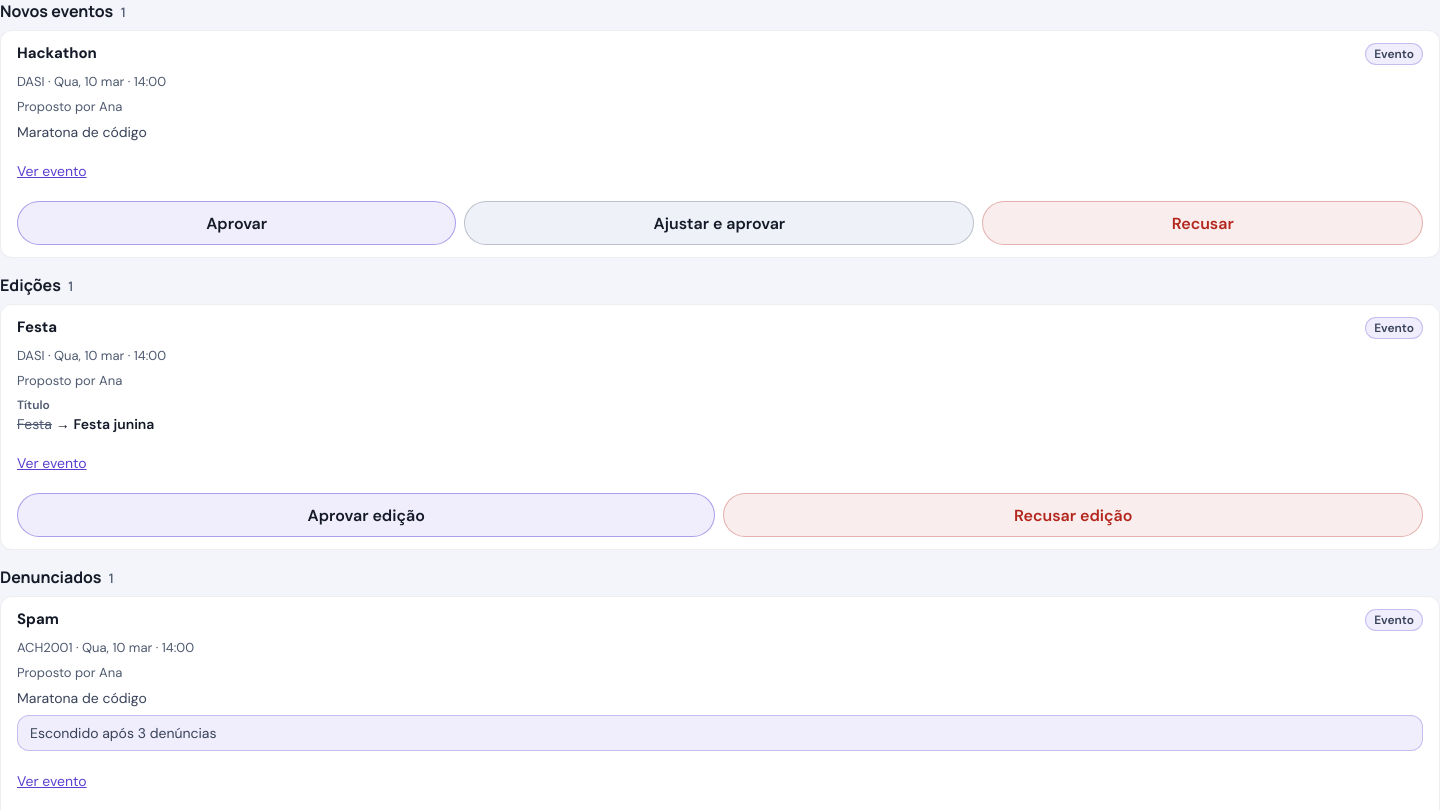
ReviewQueue › ajustar e aprovar manda só os campos alterados
This screenshot has width=1440, height=810.
Expected: the element "Hackathon" is shown, [0, 30, 1439, 258]
Click the button "Ajustar e aprovar": (719, 223) [464, 201, 974, 245]
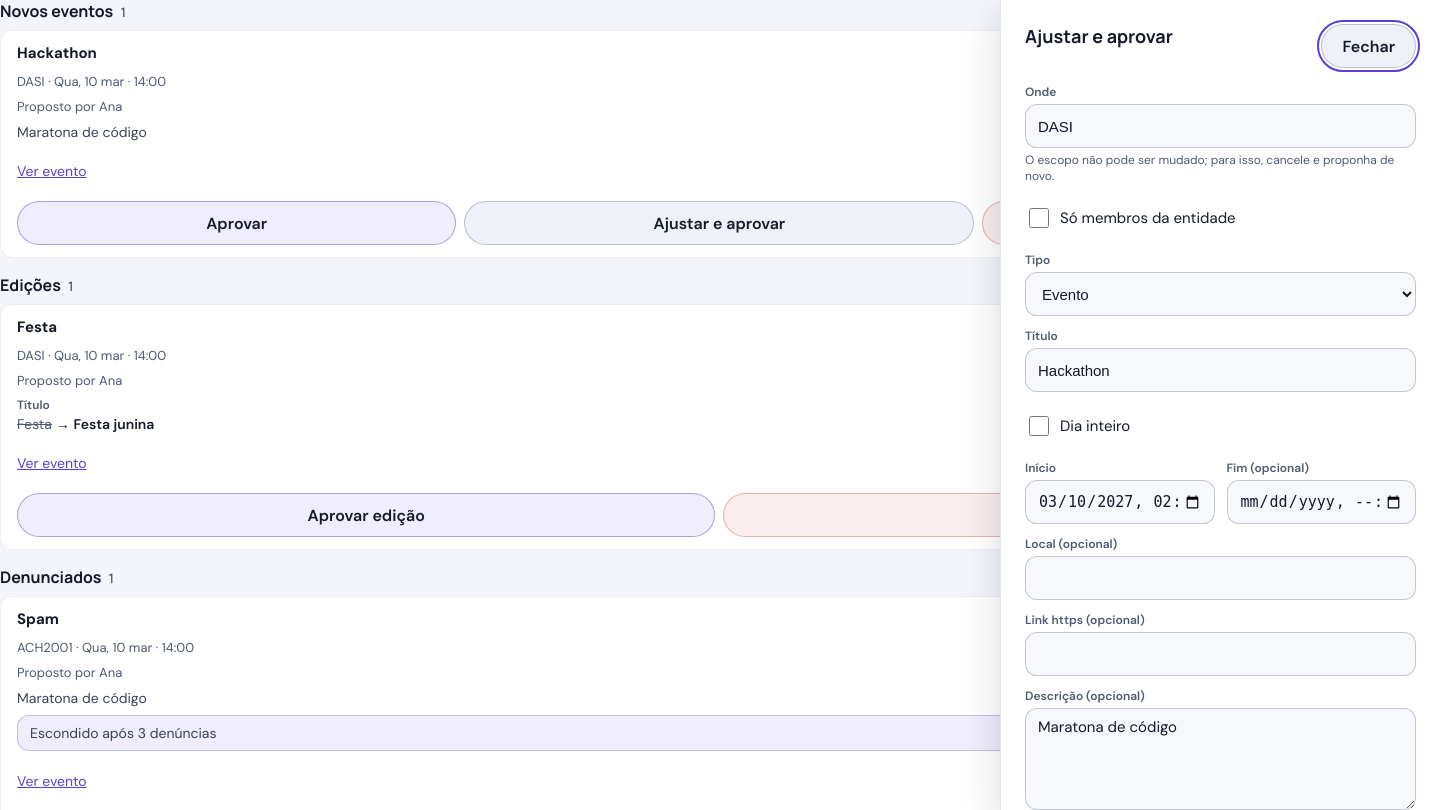
Replace the text in the field labelled "Título" with "Hackathon SI": (1220, 370) [1025, 348, 1416, 392]
(page scrolled)
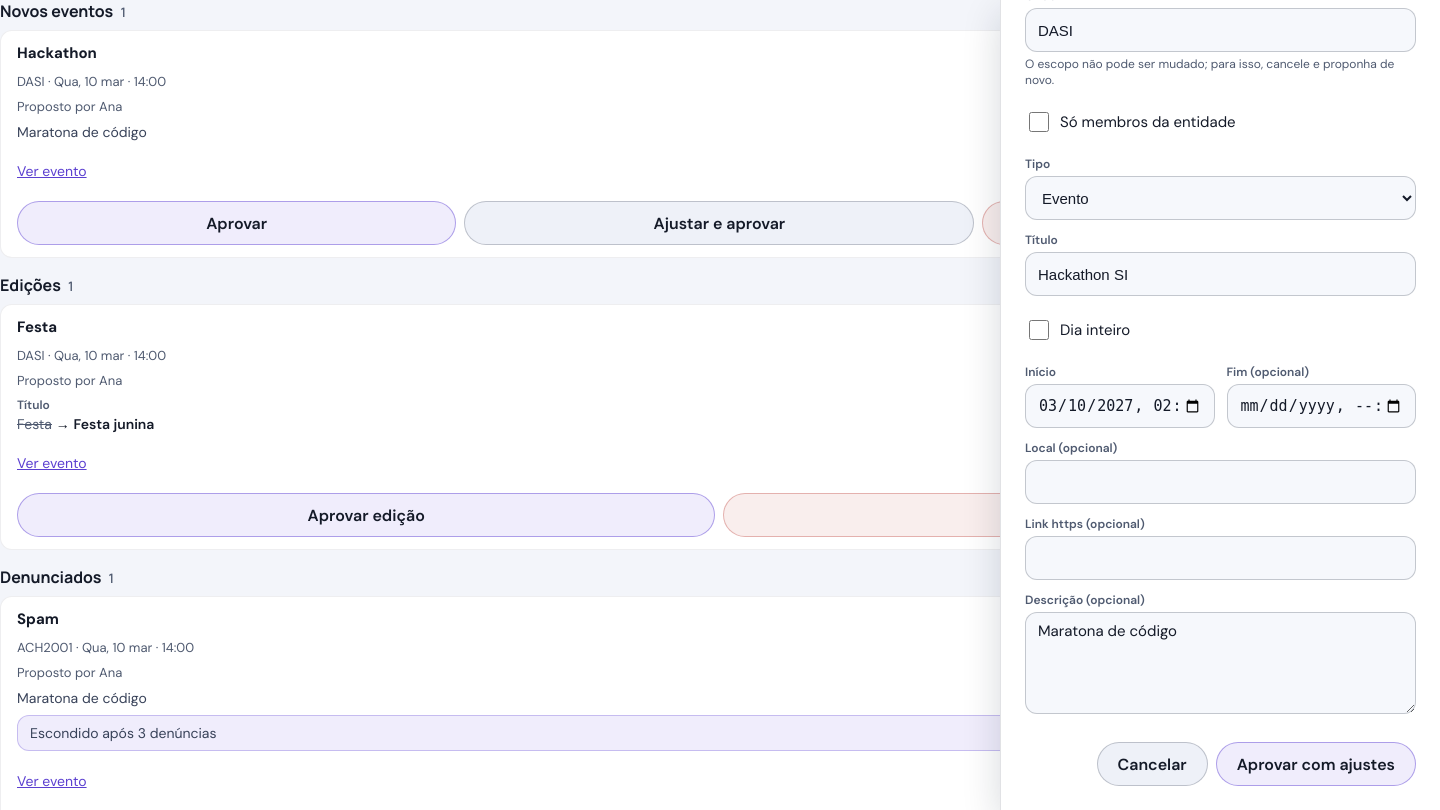
Click the button "Aprovar com ajustes": (1316, 764) [1216, 742, 1416, 786]
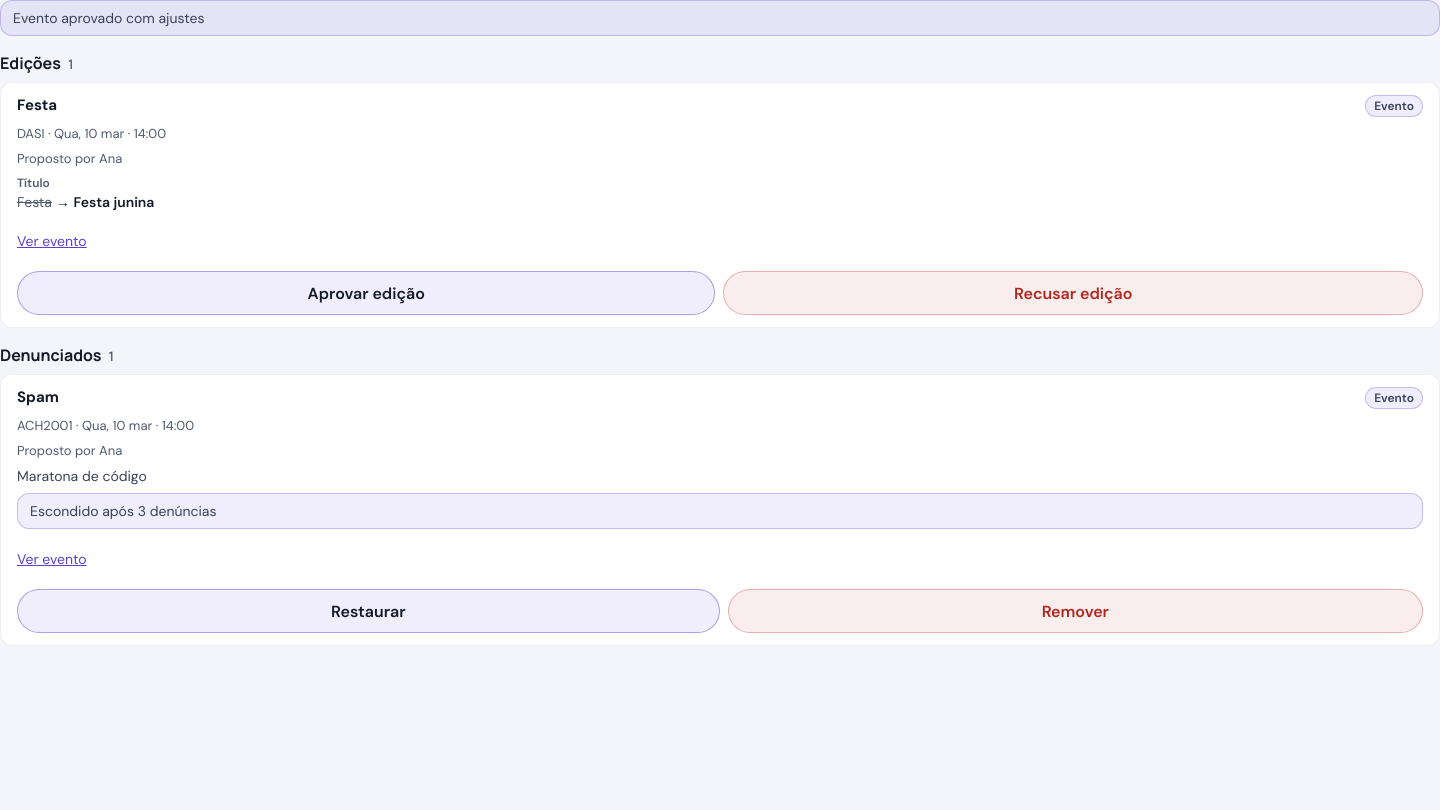
Result: the heading "Hackathon" is gone
